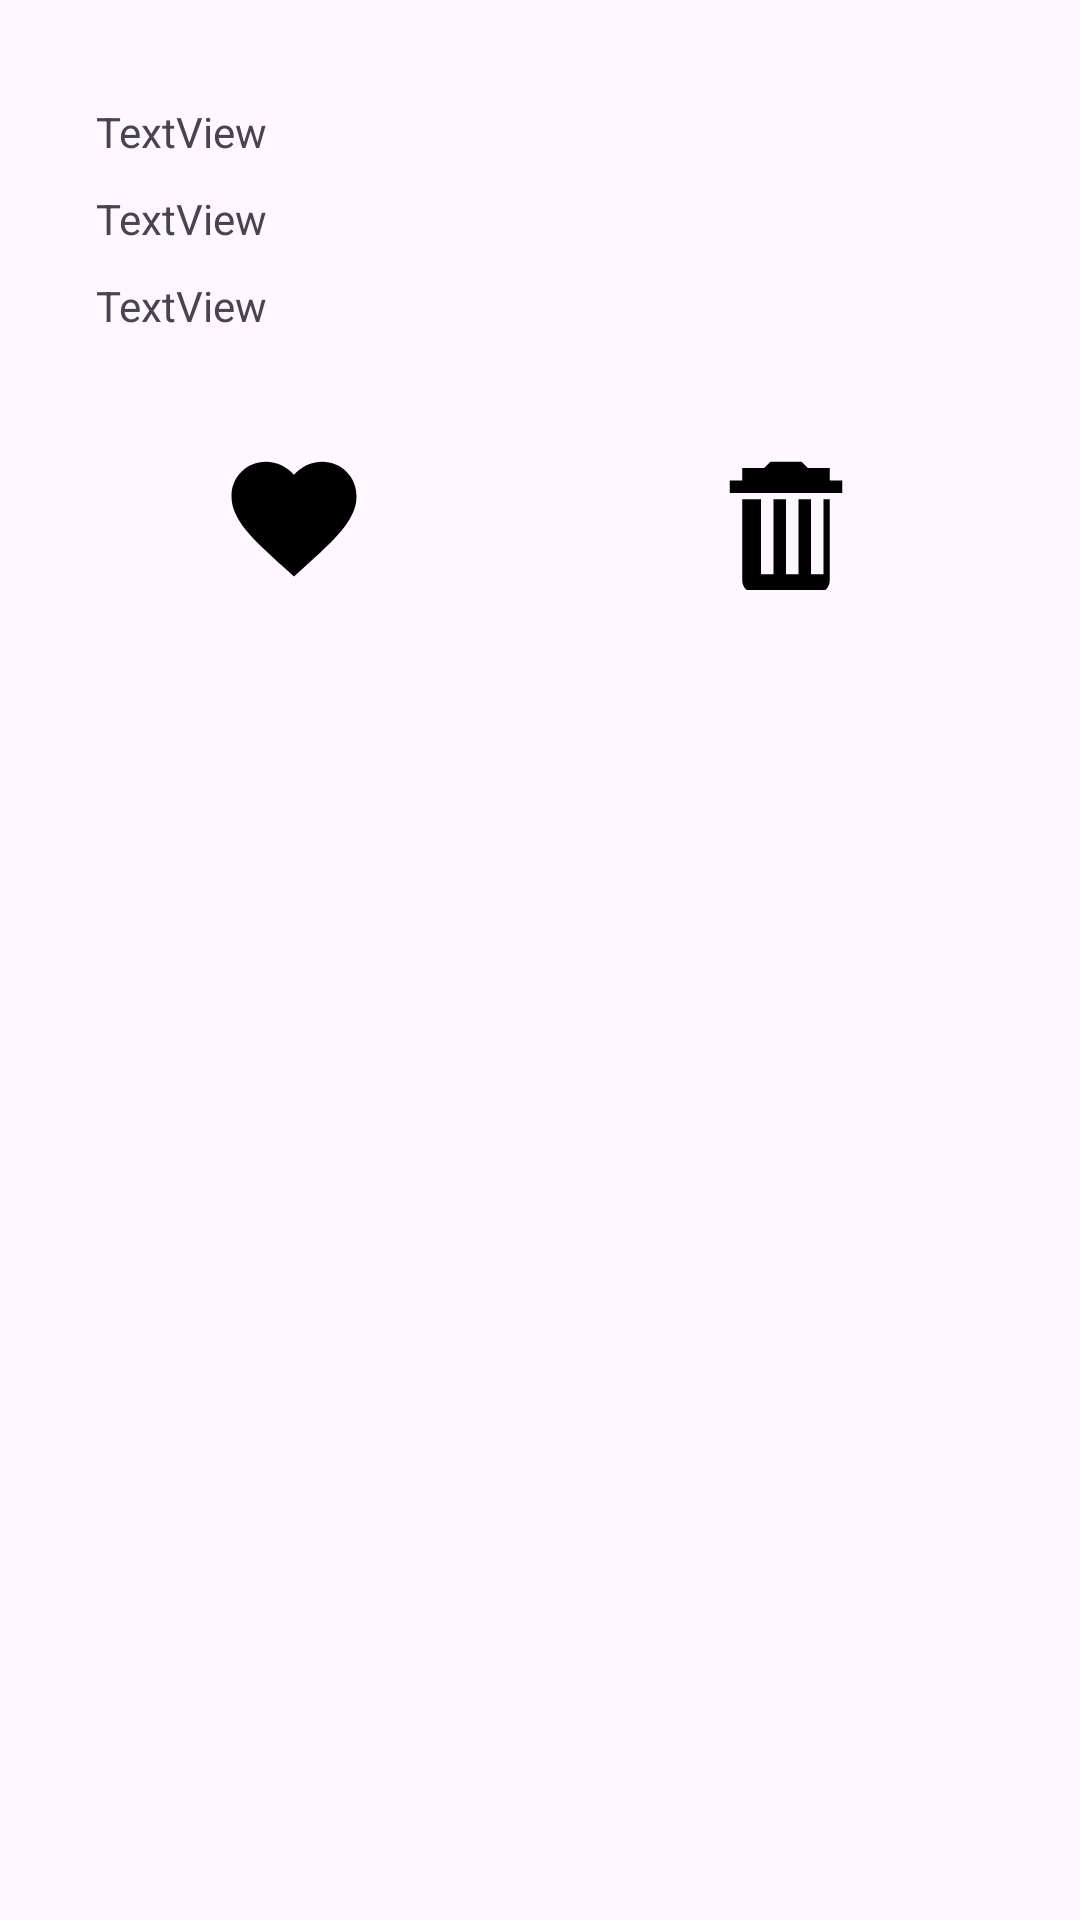

Icons on this 1080w x 1920h Android screen, each with its box as (x1=x1, y1=y1, x2=x2, y2=y2):
Heart button description: (x1=231, y1=461, x2=357, y2=577)
